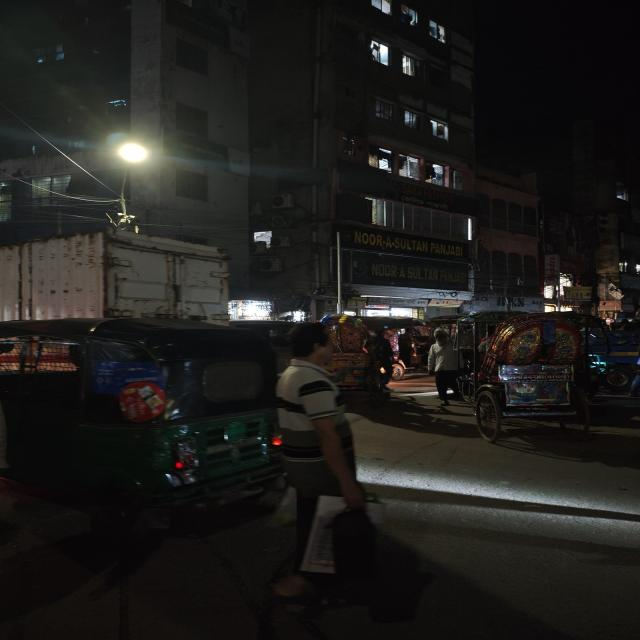cng: (0, 315, 290, 534)
pedestrian: (420, 328, 467, 414)
rickshaw: (466, 310, 595, 442), (326, 310, 382, 393)
truck: (12, 228, 235, 324)
